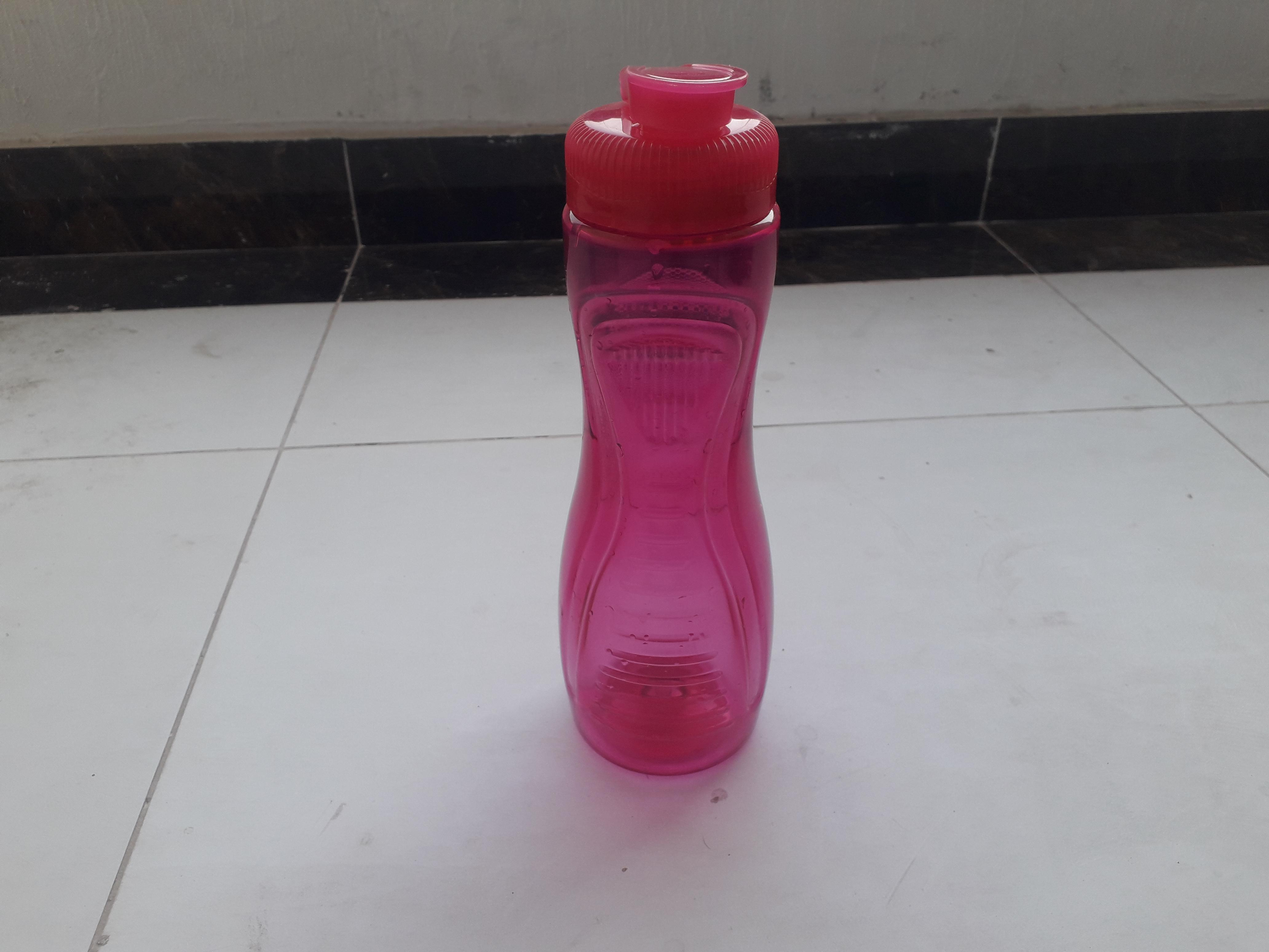gym bottle: (557, 56, 778, 777)
